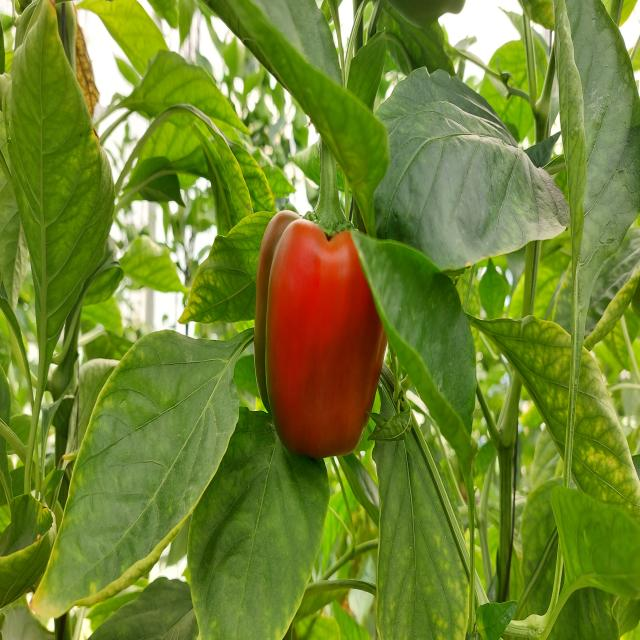Red-Ready-to-Harvest: (252, 194, 393, 460)
